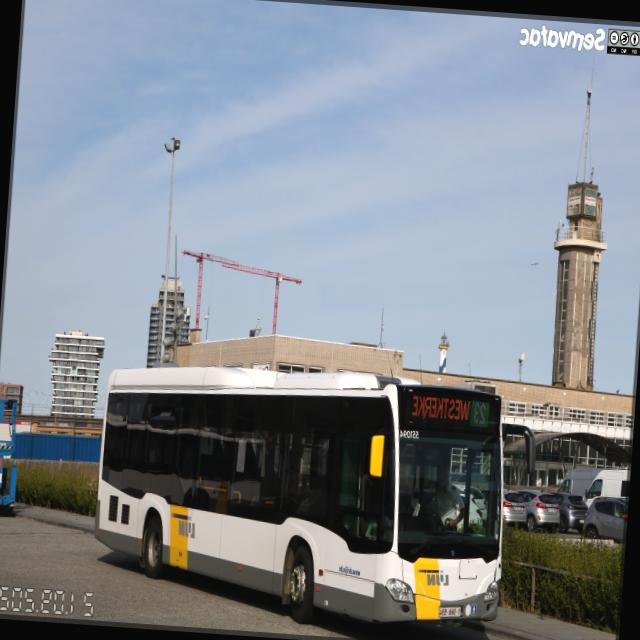bus-number: (469, 401, 490, 427)
